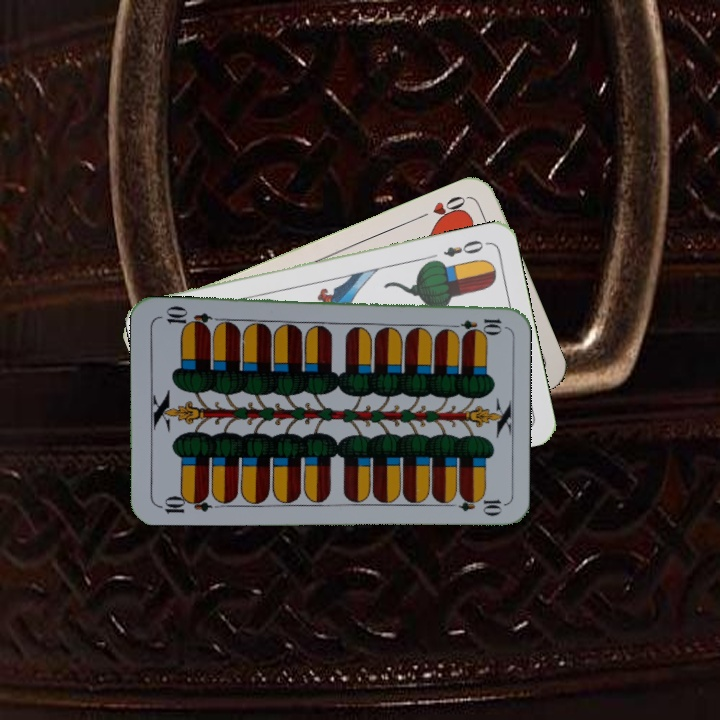E10: (154, 490, 213, 516), (445, 315, 504, 333)
EO: (439, 236, 491, 260)
HO: (414, 191, 470, 226)
